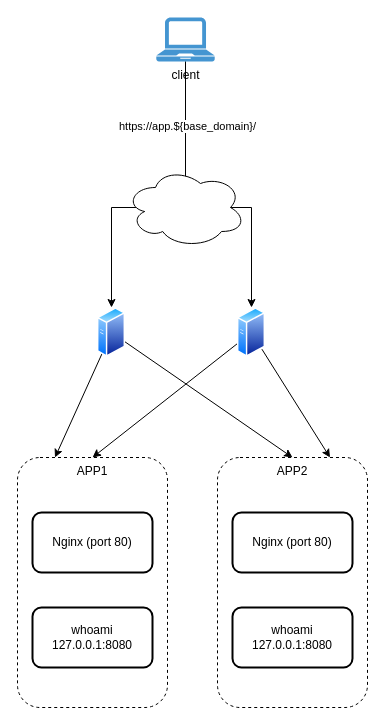
Image size: 385x725. Some labels were removed from this diagram. The shapes that lost their labels are listed below. From the top down, each one's box as (x1, y1, x2, y2) in pixels, then its label:
(124, 166, 246, 248): Internet
(97, 307, 125, 357): lb1.{base_domain}
(237, 307, 265, 357): lb2.{base_domain}
